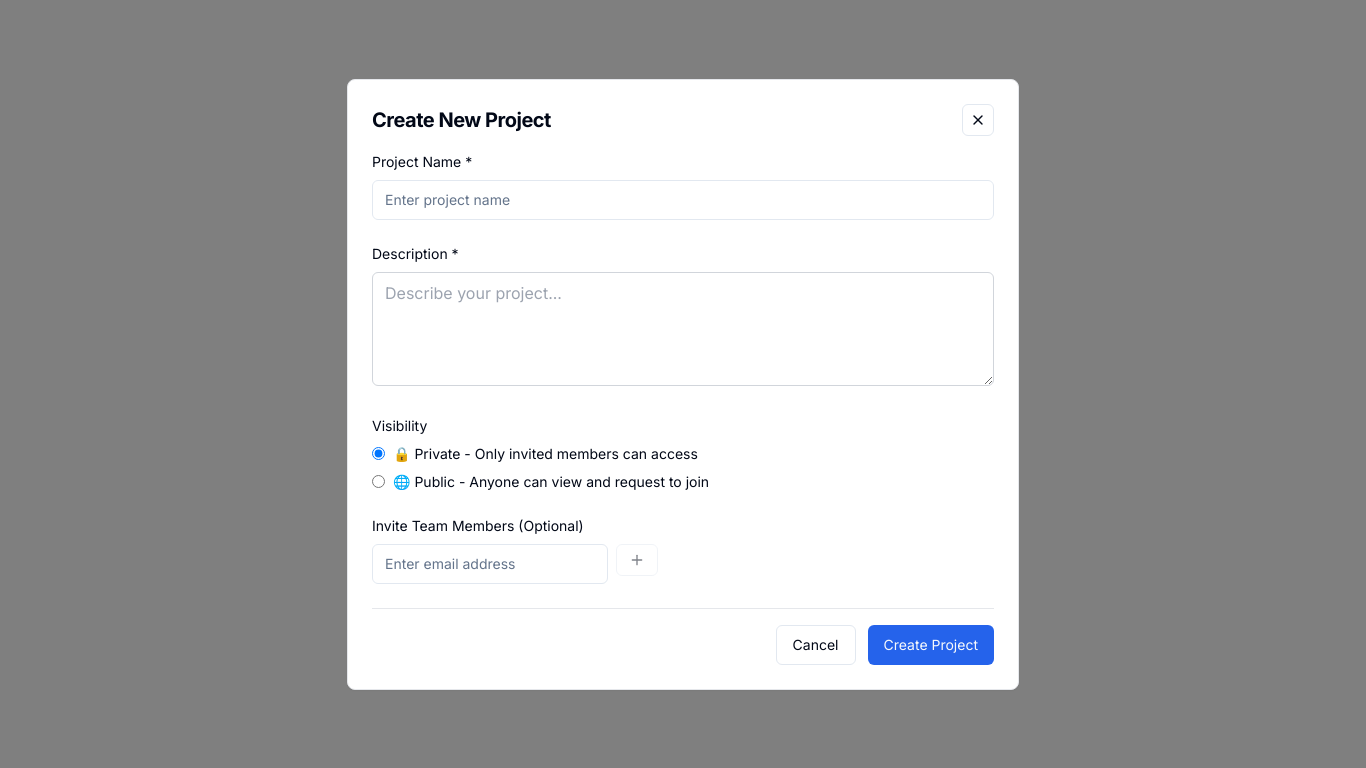
Scenario: CreateProjectModal › should show validation error for short description
Type "Valid Project Name" into the field labelled "Project Name *" at [683, 200], box [372, 180, 994, 220]
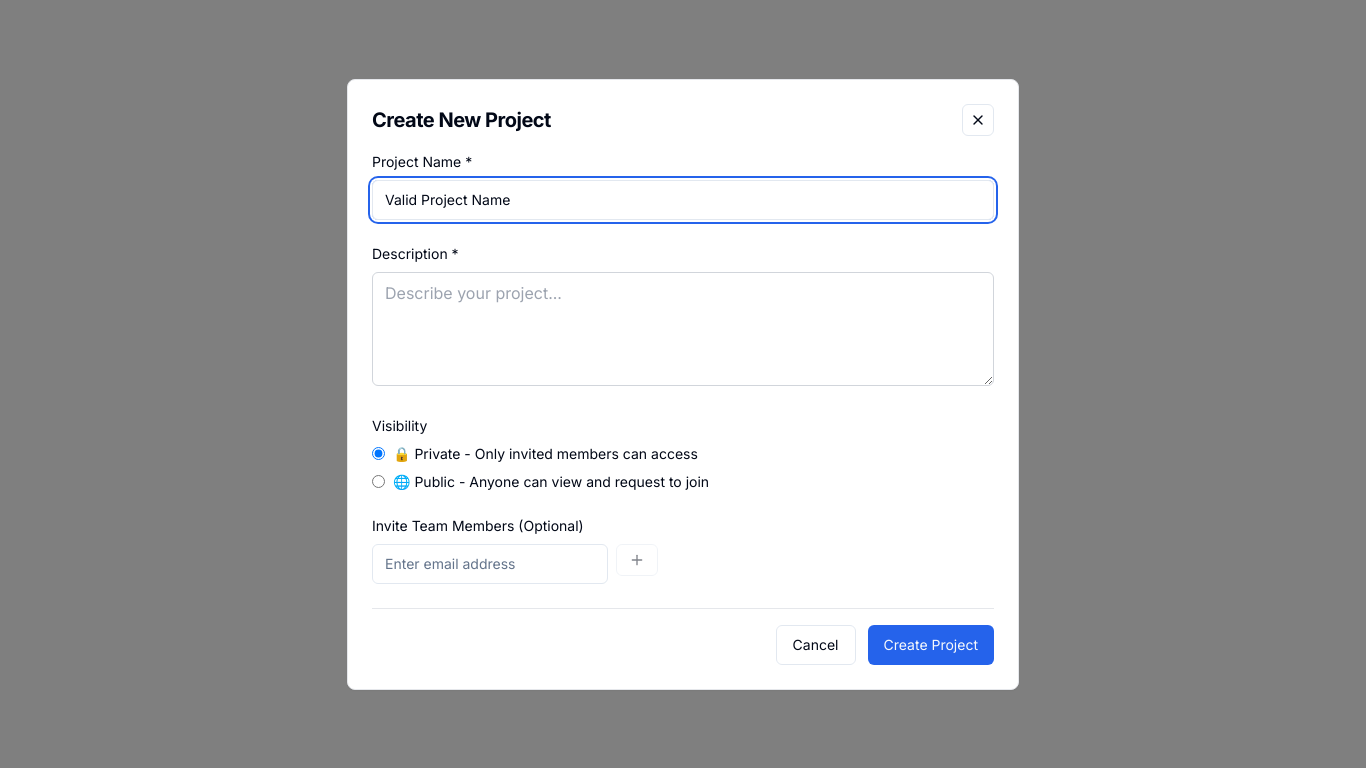
Type "Short" into the text box labelled "Description *" at [683, 328], box [372, 272, 994, 386]
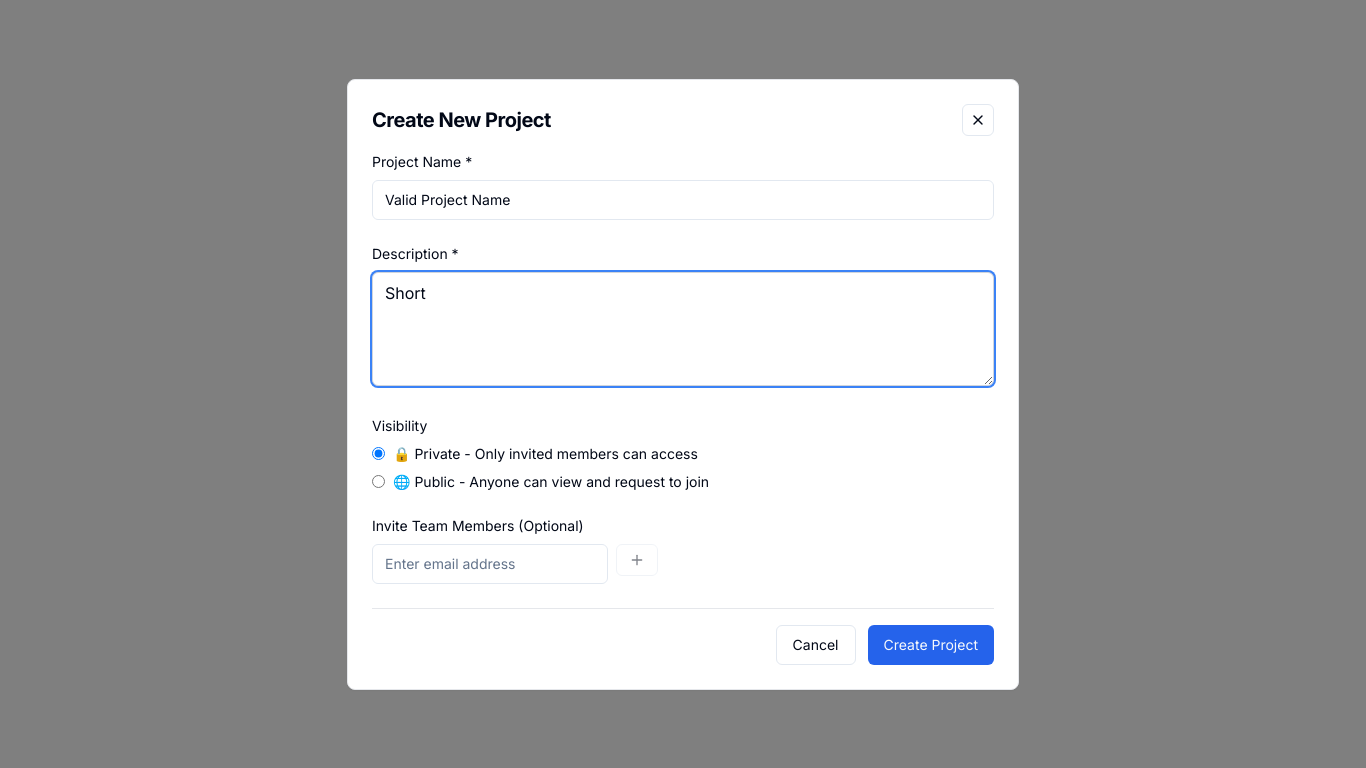
Click the button "Create Project" at [931, 644], box [868, 624, 994, 664]
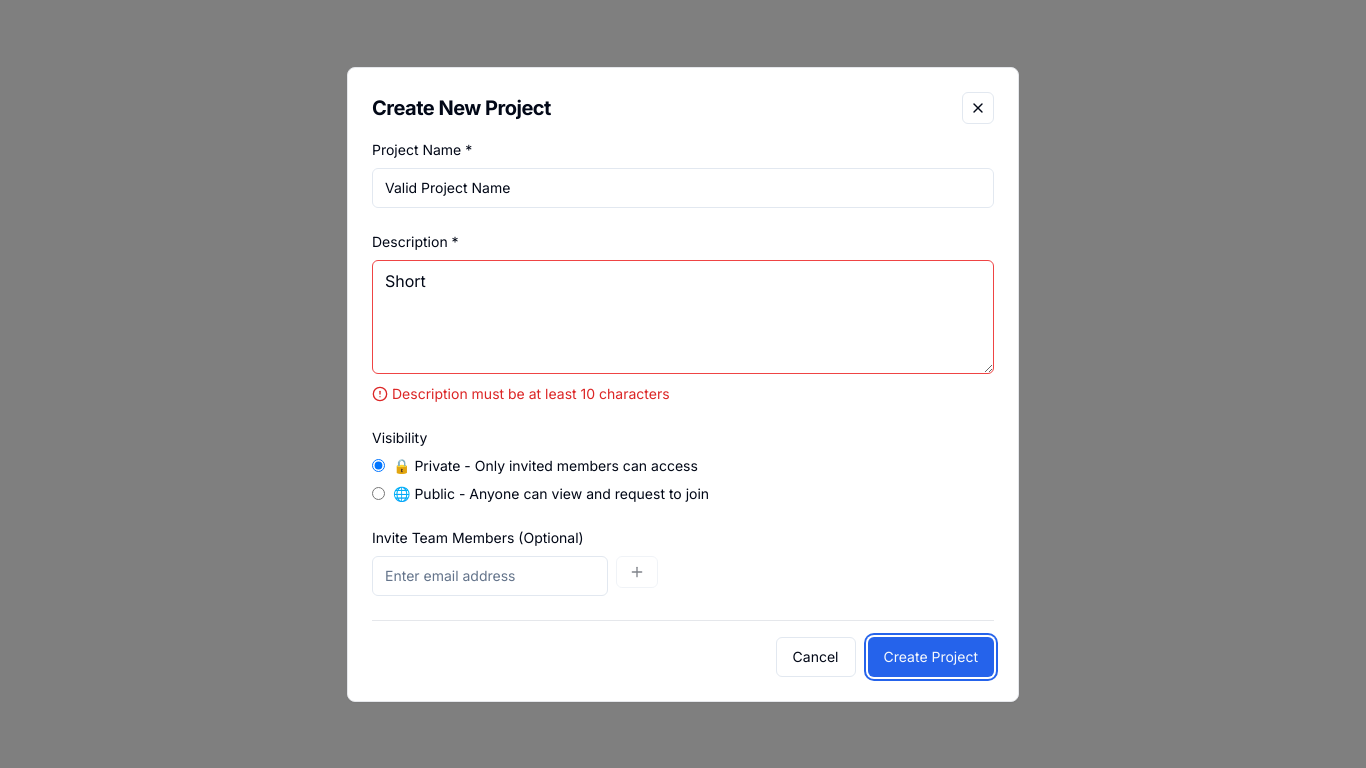
Now the text "Description must be at least 10 characters" is shown, box [392, 384, 670, 404]
